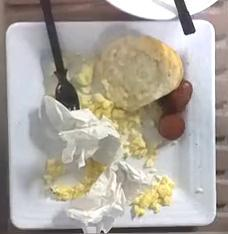biscuit: (94, 37, 183, 111)
fruit: (157, 80, 192, 140)
scrambled_eggs: (75, 64, 148, 158), (131, 175, 173, 214)
